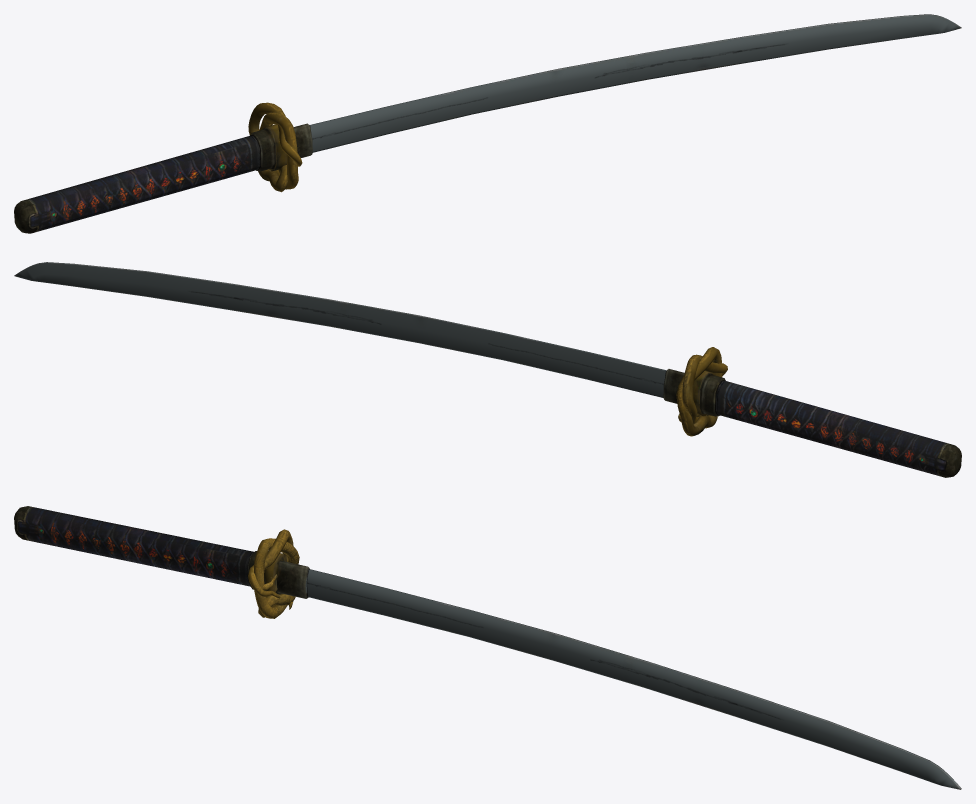
File: Cinematics_IntroCutscene_IntroCutscenePart1.fbx
3 renders of one model, top to bottom at view 1: azimuth 30°, elevation 25°; view 2: azimuth 150°, elevation 25°; view 3: azimuth 330°, elevation 25°, orthographic.
Visible parts, largest first — view 1: 1stPersonAkaviriKatana; view 2: 1stPersonAkaviriKatana; view 3: 1stPersonAkaviriKatana.
Part boxes in pixels (x1,y1,x2,y2): 1stPersonAkaviriKatana: [14, 14, 961, 233]; 1stPersonAkaviriKatana: [14, 262, 961, 477]; 1stPersonAkaviriKatana: [14, 506, 961, 789].
Size of the model in its own units: 1.34 by 0.1199 by 0.1042.
Materials: 1 (1 with a texture image).
